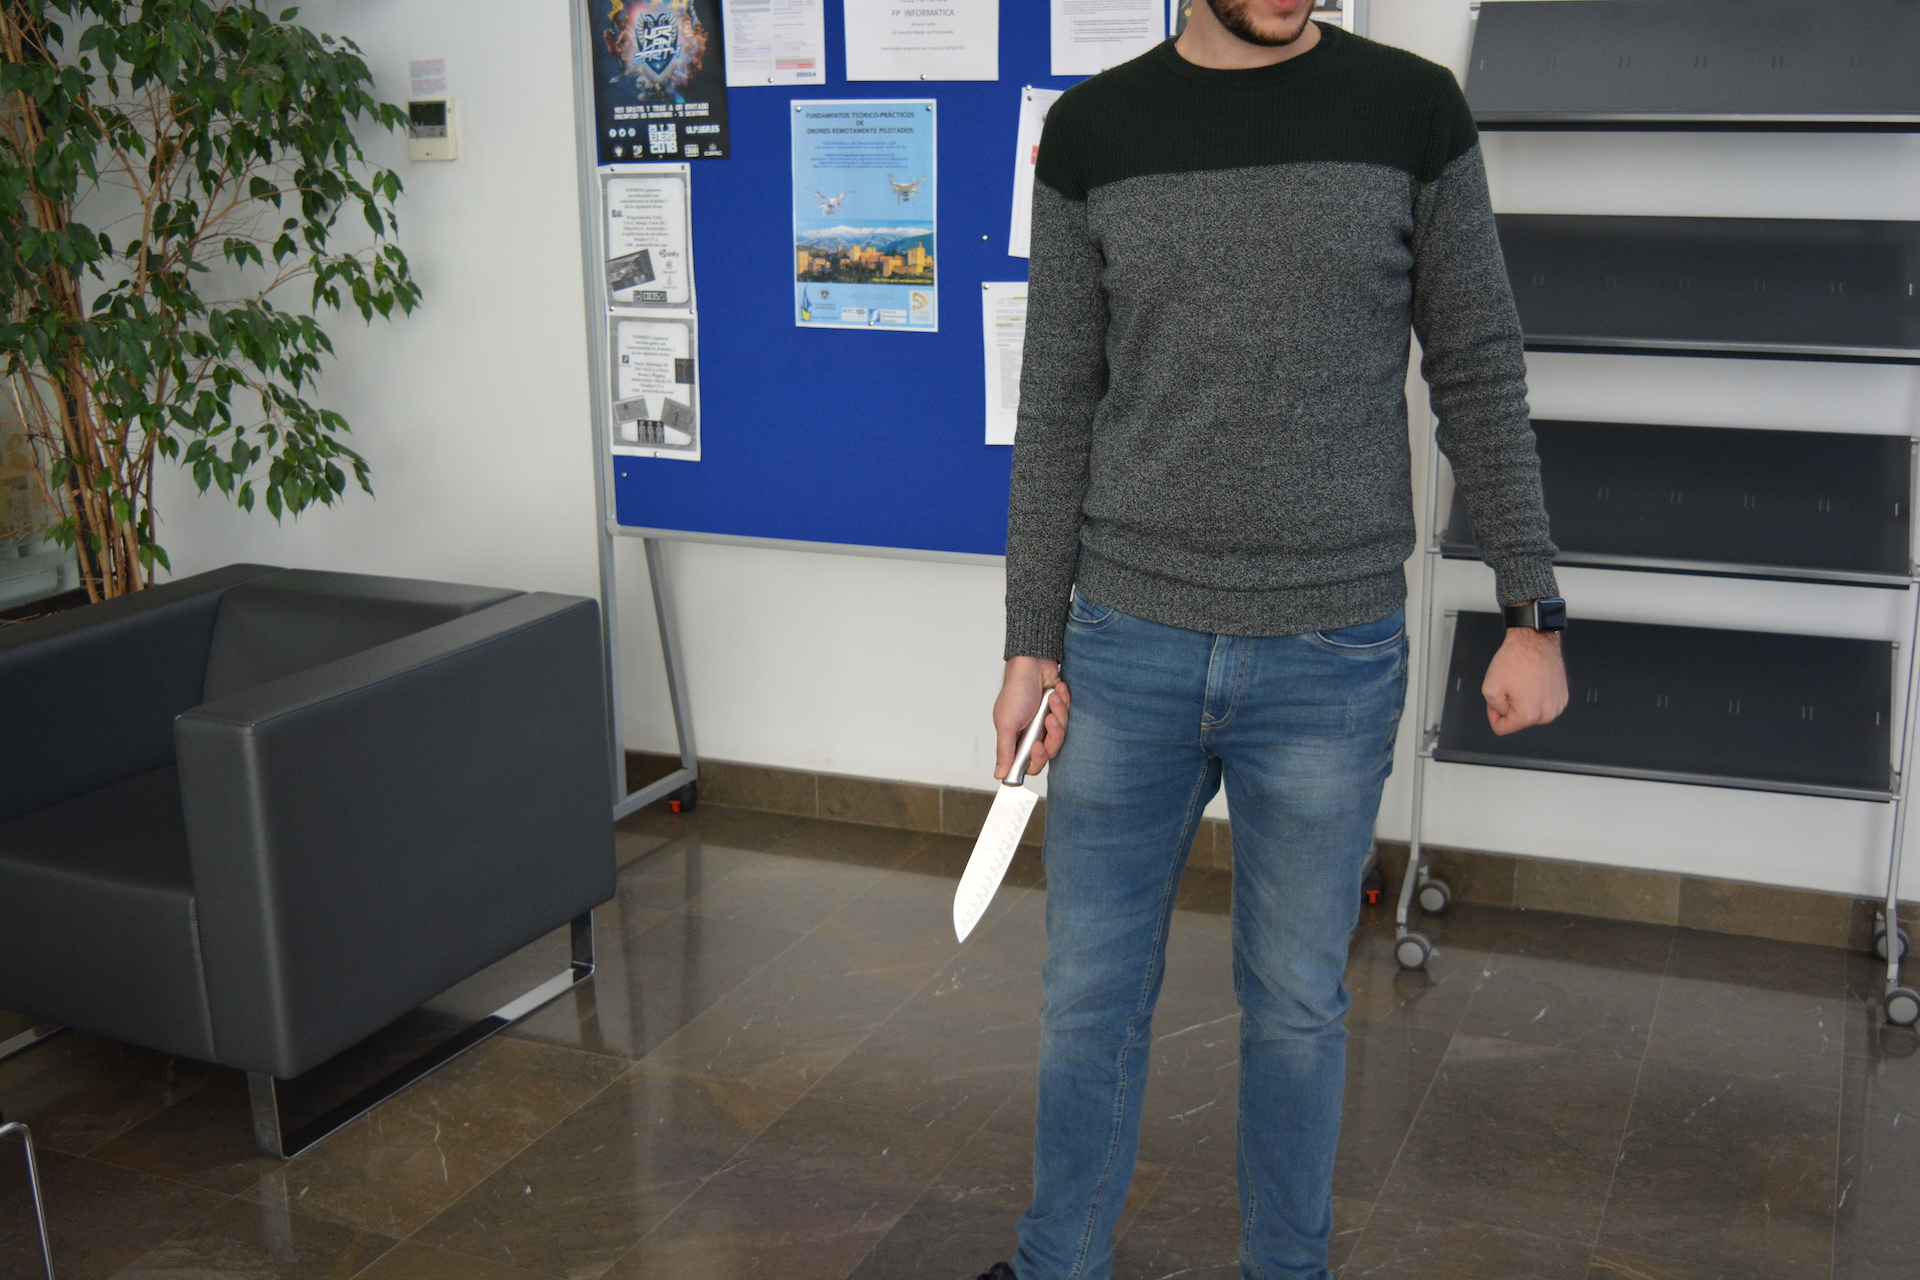knife: (943, 681, 1061, 951)
